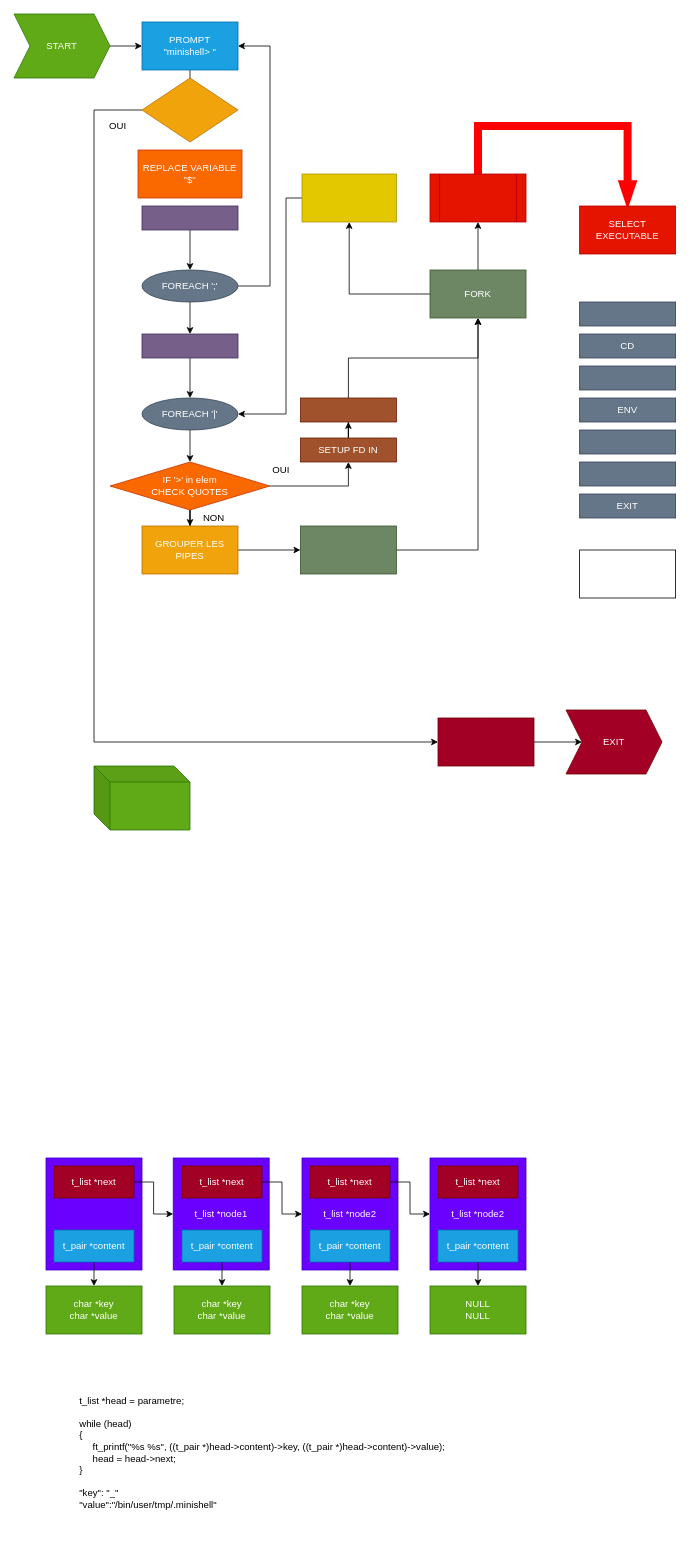
The diagram is 690 pixels wide and 1548 high, and some of its shapes have lost their labels. The box of each missing label's shape, as (x1, y1, x2, y2) in pixels:
CLEAN EXIT: (437, 717, 534, 766)
CTRL+C CTRL+\: (93, 765, 190, 830)
ECHO: (579, 301, 676, 326)
EXEC PROCESS: (429, 173, 526, 222)
EXPORT: (579, 429, 676, 454)
FROM PATH: (579, 549, 676, 598)
IF GNL == 0: (141, 77, 238, 142)
LOOP_PIPE: (300, 525, 396, 574)
PWD: (579, 365, 676, 390)
SETUP FD OUT: (300, 397, 396, 422)
SPLIT ';': (141, 205, 238, 230)
SPLIT '|': (141, 333, 238, 358)
t_list *head: (45, 1157, 142, 1270)
UNSET: (579, 461, 676, 486)
WAIT: (301, 173, 396, 222)
